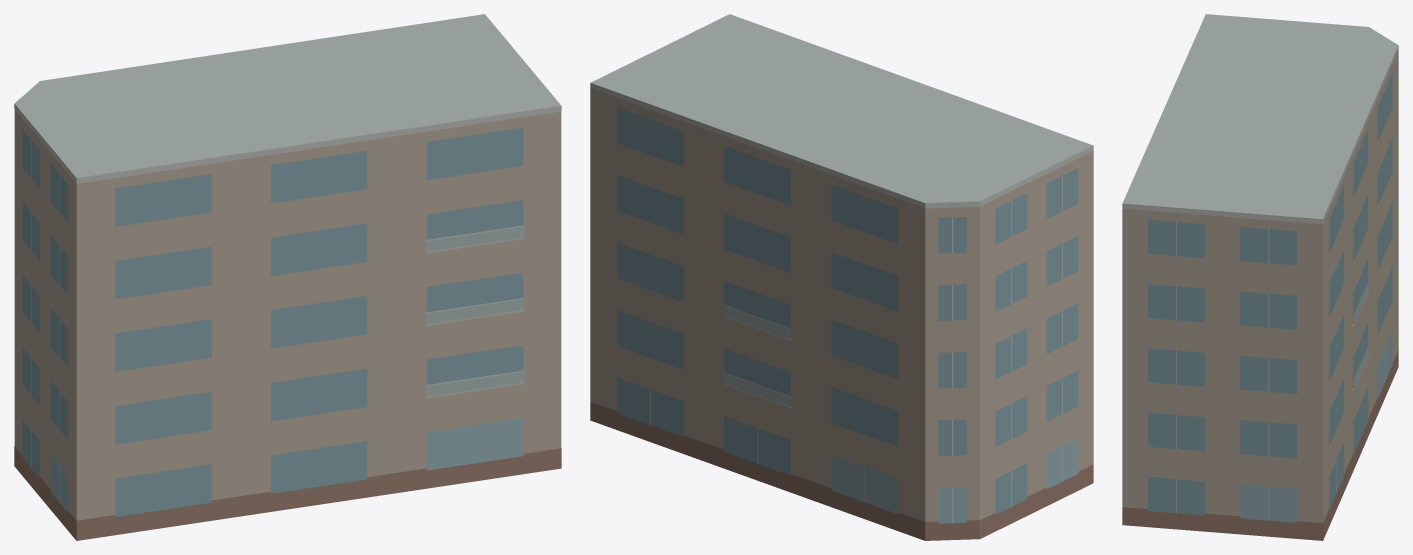
File: survey-upis-32700980.glb
The picture shows the model from 3 angles, left to right: view 1: azimuth 30°, elevation 25°; view 2: azimuth 150°, elevation 25°; view 3: azimuth 270°, elevation 25°; orthographic projection. The views are drawn at different scales.
Visible parts, largest first — view 1: survey-upis-32700980.tmp; view 2: survey-upis-32700980.tmp; view 3: survey-upis-32700980.tmp.
Boxes of the visible parts, x1,y1,x2,y2 form: survey-upis-32700980.tmp: (14, 14, 561, 540); survey-upis-32700980.tmp: (590, 14, 1093, 540); survey-upis-32700980.tmp: (1122, 14, 1398, 540).
Bounding box in the file's own units: 20.88 × 15.25 × 11.88.
